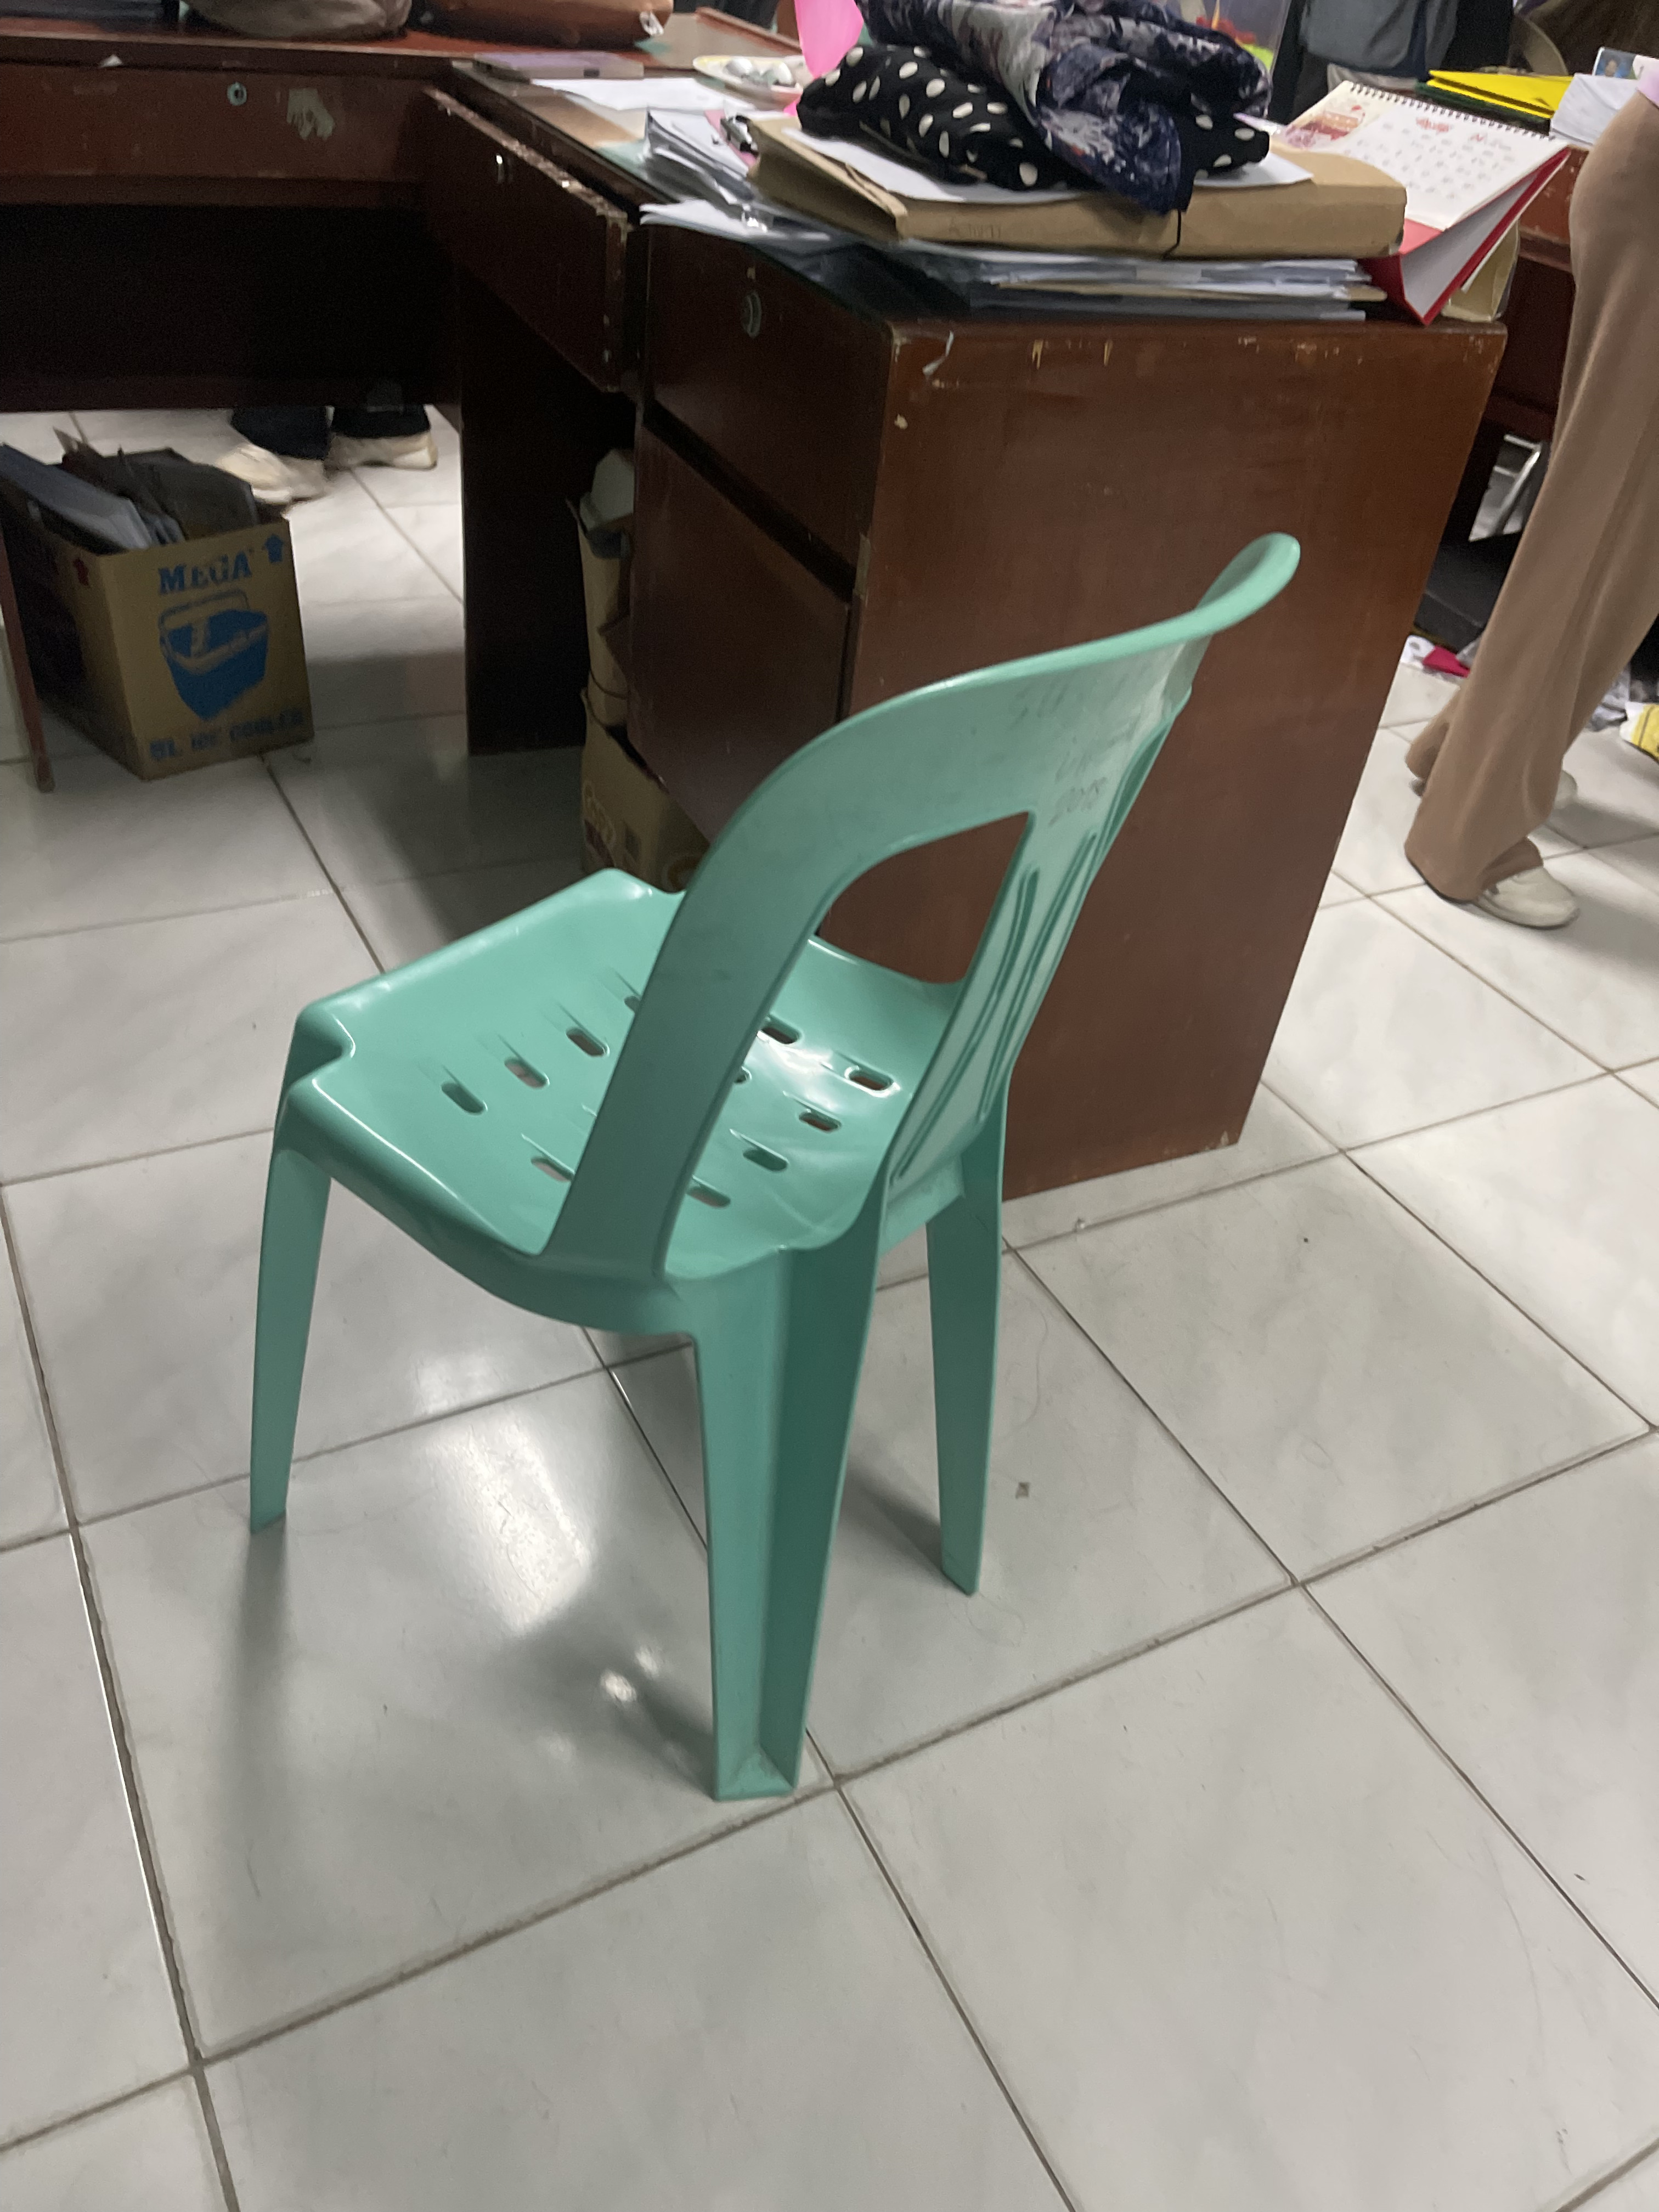chair2: (240, 514, 1317, 1829)
